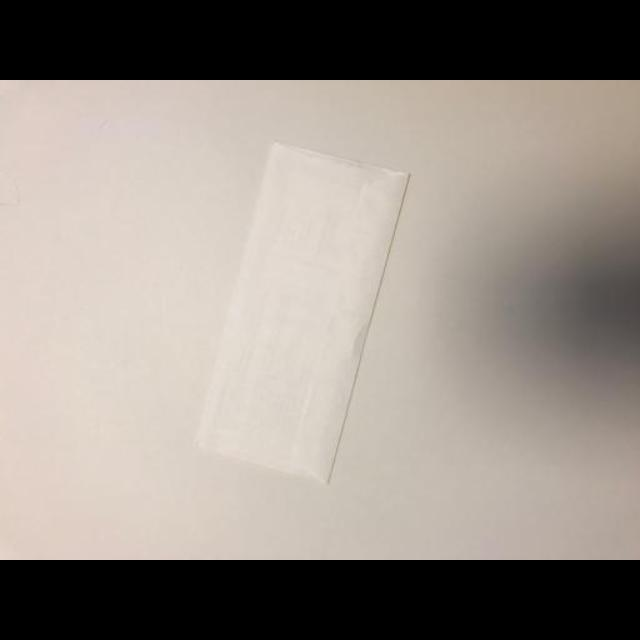papel: (198, 140, 410, 482)
